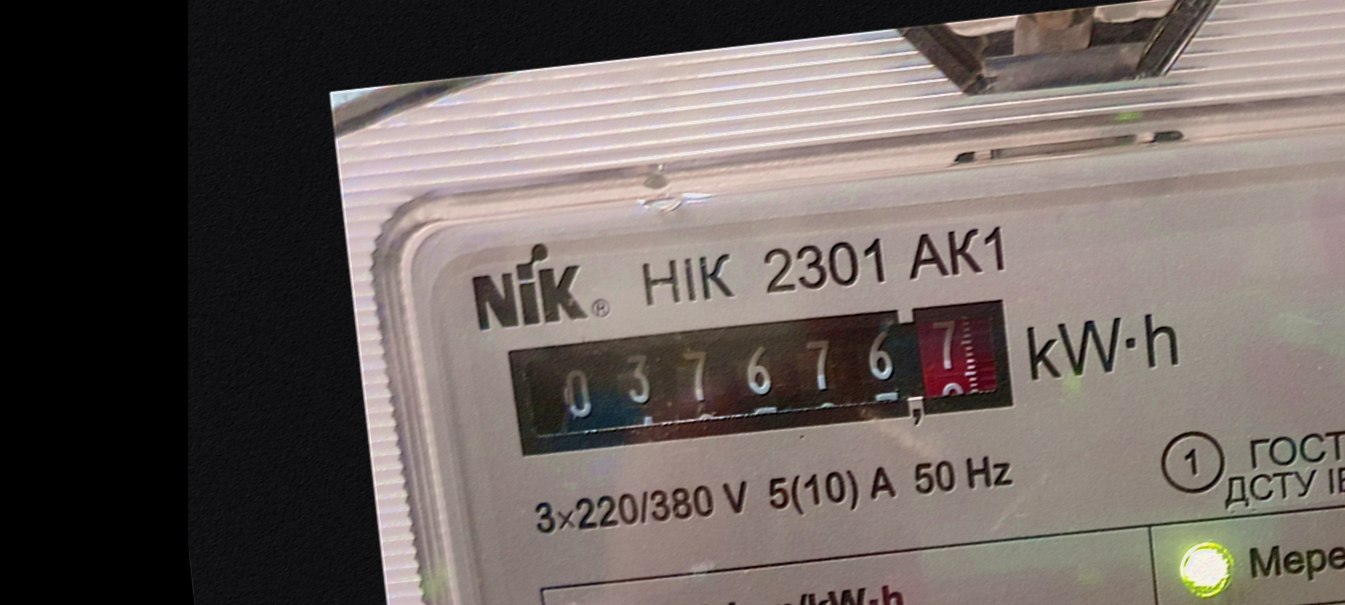0: (560, 364, 599, 422)
3: (621, 349, 655, 409)
6: (740, 341, 778, 398), (863, 327, 899, 385)
7: (802, 336, 839, 397), (679, 346, 716, 406), (930, 316, 964, 374)
screen: (492, 278, 1033, 482)
